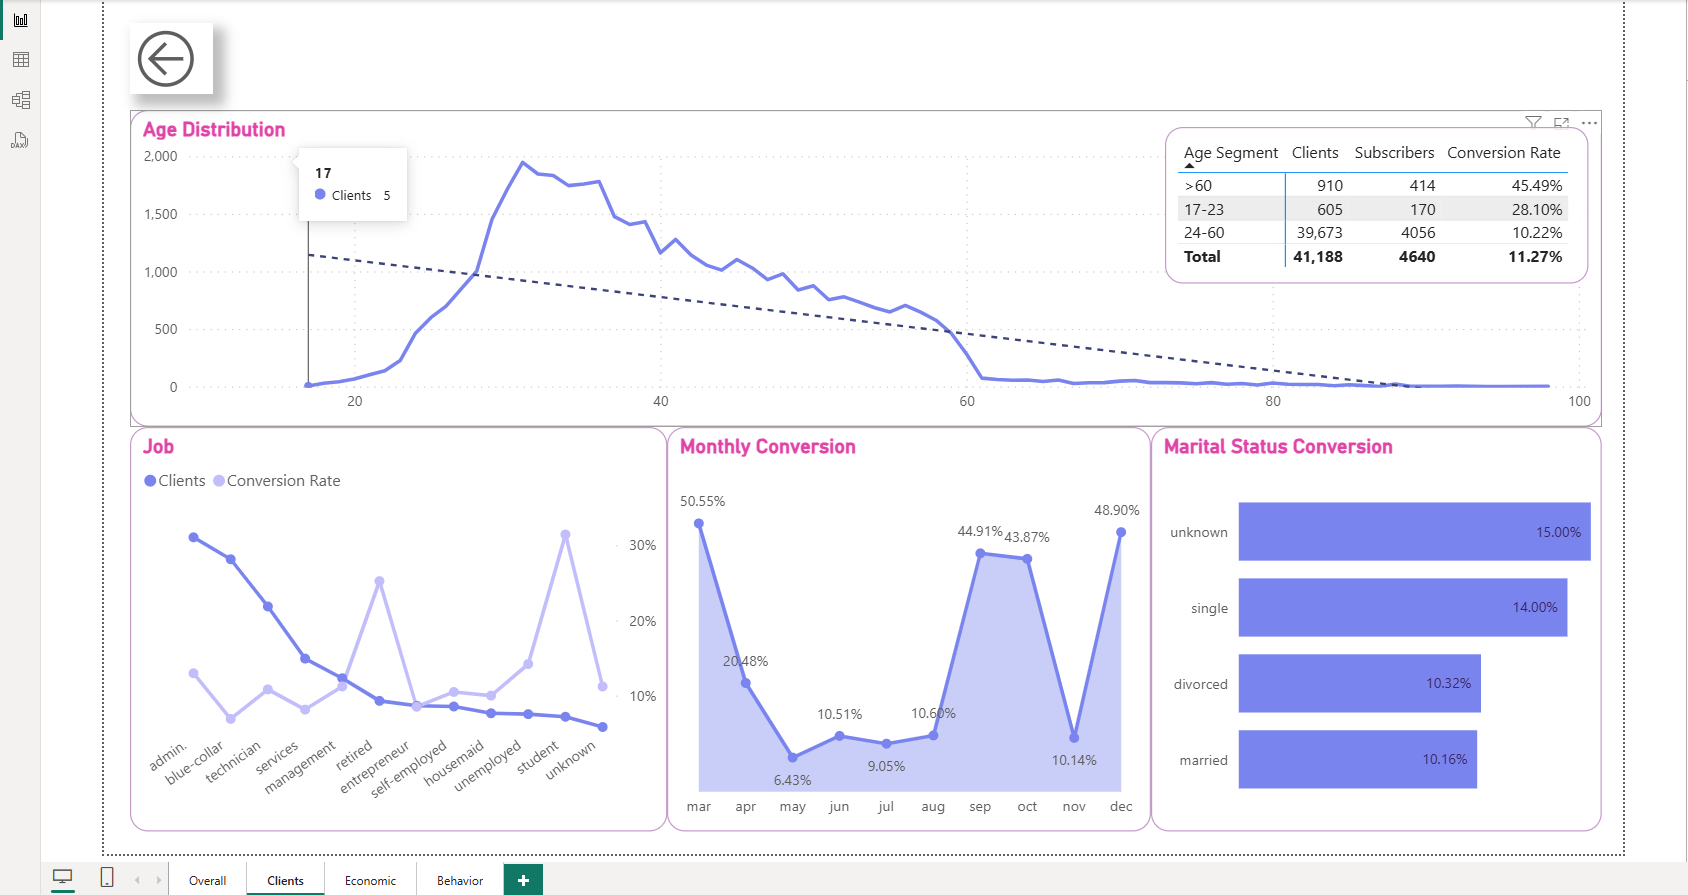

What the dashboard file says about the page in this screenshot:
{"tool":"powerbi","page":{"name":"Clients","canvas":[1280,720],"ordinal":1},"visuals":[{"type":"lineChart","title":"Age Distribution","fields":{"Y":["Facts.Number Customers"],"Category":["bank-additional-full.Age"]},"box":[22.1,92.9,1240.5,267.2],"z":0},{"type":"pivotTable","fields":{"Rows":["bank-additional-full.Age Segment"],"Values":["Facts.Number Customers","Facts.Number Subscribers","Facts.%Subcribers"]},"box":[894.4,106.9,356.6,132.4],"z":1000},{"type":"areaChart","title":"Monthly Conversion","fields":{"Category":["bank-additional-full.LastContactMonth"],"Y":["Facts.%Subcribers"]},"box":[475.1,360.1,407.7,341.5],"z":2000},{"type":"barChart","title":"Marital Status Conversion","fields":{"Category":["bank-additional-full.Marital Status"],"Y":["Facts.%Subcribers"]},"box":[882.8,360.1,379.8,341.5],"z":3000},{"type":"lineChart","title":"Job","fields":{"Category":["bank-additional-full.Job"],"Y":["Facts.Clients"],"Y2":["Facts.Subscription Rate"]},"box":[22.1,360.1,453,341.5],"z":4000},{"type":"actionButton","box":[22.1,19.7,69.7,60.4],"z":6000}]}

Visuals, with their boxes on the page's 1280x720 design canvas (x1, y1, x2, y2). These are canvas units, not pixel positions in the 1688x895 screenshot, which may show the page scaled, cropped or inside an application window:
"Age Distribution" lineChart: [22, 93, 1263, 360]
pivotTable - bank-additional-full.Age Segment x Facts.Number Customers: [894, 107, 1251, 239]
"Monthly Conversion" areaChart: [475, 360, 883, 702]
"Marital Status Conversion" barChart: [883, 360, 1263, 702]
"Job" lineChart: [22, 360, 475, 702]
actionButton: [22, 20, 92, 80]
